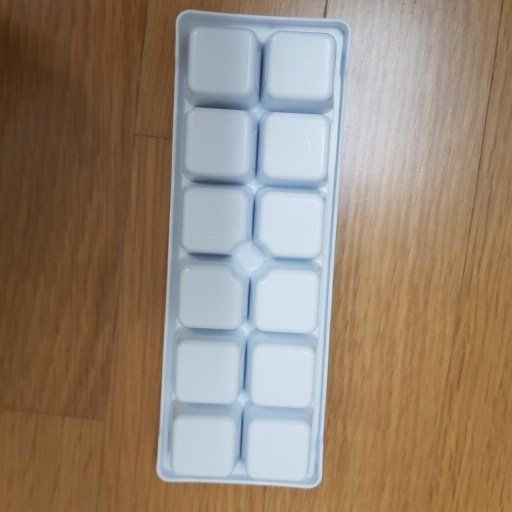Plastic_4: (157, 10, 352, 488)
